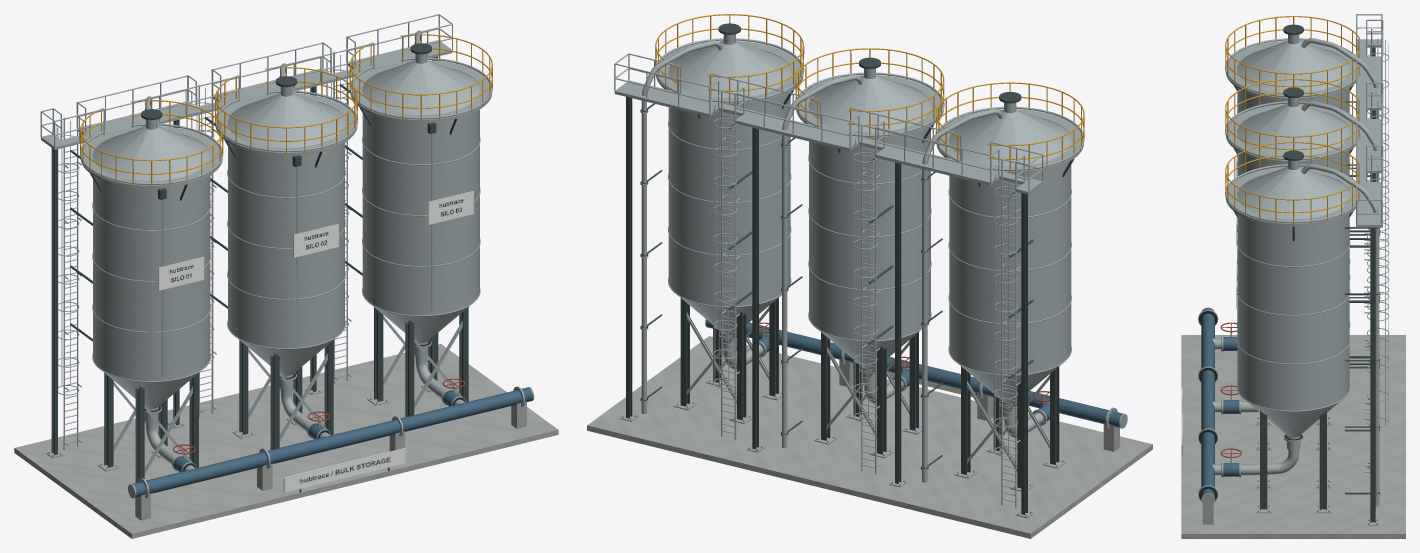
Rendered from silo-farm.glb.
The picture shows the model from 3 angles, left to right: view 1: azimuth 30°, elevation 25°; view 2: azimuth 150°, elevation 25°; view 3: azimuth 270°, elevation 25°; orthographic projection. The views are drawn at different scales.
Visible parts, largest first — view 1: storage_vessels_brushed-metal-panels, silo-farm_cast-concrete, storage_vessels_galvanized-steel, storage_vessels_powder-coated-frame, silo-farm_galvanized-steel, silo-farm_utility-blue, storage_vessels_safety-yellow, storage_vessels_silo-identification-ink (×3), silo-farm_powder-coated-frame, silo-farm_silo-site-sign-ink; view 2: storage_vessels_brushed-metal-panels, silo-farm_cast-concrete, storage_vessels_galvanized-steel, storage_vessels_powder-coated-frame, silo-farm_galvanized-steel, silo-farm_powder-coated-frame, storage_vessels_safety-yellow, silo-farm_utility-blue; view 3: storage_vessels_brushed-metal-panels, silo-farm_cast-concrete, storage_vessels_galvanized-steel, silo-farm_galvanized-steel, storage_vessels_safety-yellow, storage_vessels_powder-coated-frame, silo-farm_utility-blue, silo-farm_powder-coated-frame, storage_vessels_utility-blue, silo-farm_rubber-gaskets, storage_vessels_fire-protection-red.
Boxes of the visible parts, box(x1,y1,x2,y2) form: storage_vessels_brushed-metal-panels: box(93, 60, 479, 408); silo-farm_cast-concrete: box(14, 344, 558, 538); storage_vessels_galvanized-steel: box(56, 30, 492, 474); storage_vessels_powder-coated-frame: box(70, 43, 468, 482); silo-farm_galvanized-steel: box(40, 14, 534, 498); silo-farm_utility-blue: box(132, 387, 532, 497); storage_vessels_safety-yellow: box(80, 34, 492, 186); storage_vessels_silo-identification-ink (×3): box(159, 192, 473, 289); silo-farm_powder-coated-frame: box(51, 56, 438, 492); silo-farm_silo-site-sign-ink: box(285, 449, 404, 491); storage_vessels_brushed-metal-panels: box(668, 41, 1071, 403); silo-farm_cast-concrete: box(587, 336, 1152, 538); storage_vessels_galvanized-steel: box(640, 34, 1084, 508); storage_vessels_powder-coated-frame: box(647, 23, 1074, 488); silo-farm_galvanized-steel: box(614, 53, 1127, 518); silo-farm_powder-coated-frame: box(626, 97, 1027, 514); storage_vessels_safety-yellow: box(655, 14, 1084, 171); silo-farm_utility-blue: box(706, 320, 1123, 427); storage_vessels_brushed-metal-panels: box(1237, 41, 1349, 437); silo-farm_cast-concrete: box(1181, 335, 1405, 538); storage_vessels_galvanized-steel: box(1212, 28, 1389, 513); silo-farm_galvanized-steel: box(1198, 14, 1383, 525); storage_vessels_safety-yellow: box(1225, 16, 1360, 224); storage_vessels_powder-coated-frame: box(1233, 24, 1370, 510); silo-farm_utility-blue: box(1201, 308, 1214, 497); silo-farm_powder-coated-frame: box(1182, 47, 1375, 522); storage_vessels_utility-blue: box(1223, 337, 1239, 476); silo-farm_rubber-gaskets: box(1199, 311, 1217, 499); storage_vessels_fire-protection-red: box(1220, 322, 1241, 457).
Bounding box in the file's own units: 19.3 × 15.71 × 9.21.
Materials: 8 (8 with a texture image).
